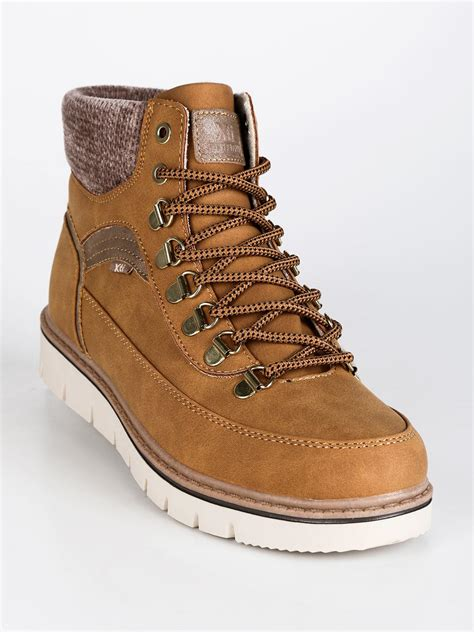gamuza: (48, 81, 430, 501)
